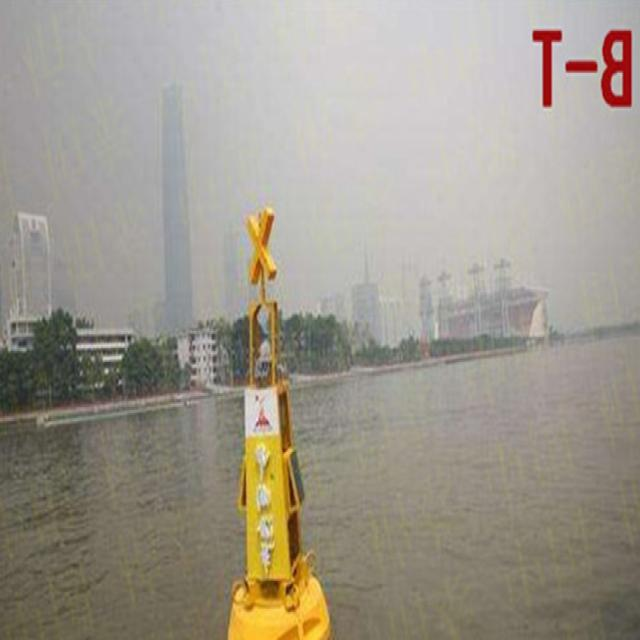buoy: (222, 194, 332, 640)
